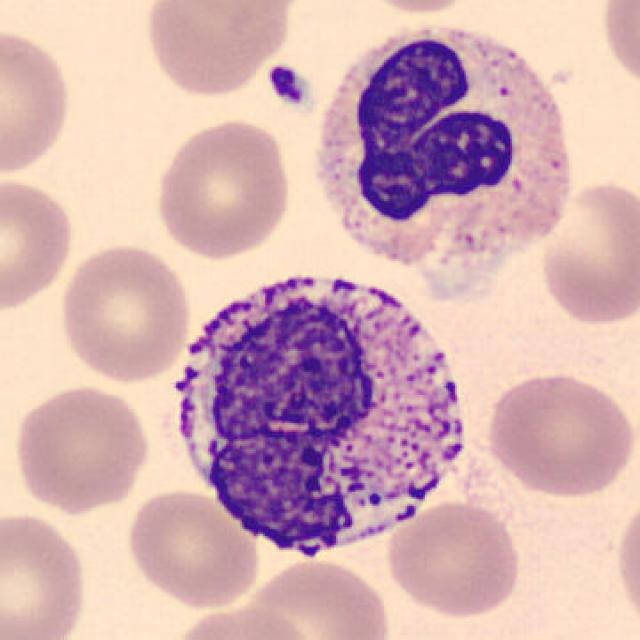Basophil: (153, 252, 483, 577)
Monocyte: (302, 12, 580, 298)
Platelets: (263, 61, 311, 108)
RBC: (151, 115, 295, 261), (480, 368, 636, 501), (55, 240, 194, 386), (9, 381, 155, 516), (382, 498, 526, 622), (123, 486, 263, 612), (139, 0, 297, 100), (535, 176, 638, 326), (242, 555, 393, 640), (0, 508, 92, 640), (0, 23, 75, 180), (0, 171, 78, 314), (165, 601, 315, 640), (611, 490, 640, 634), (597, 0, 640, 92), (354, 0, 478, 16)
